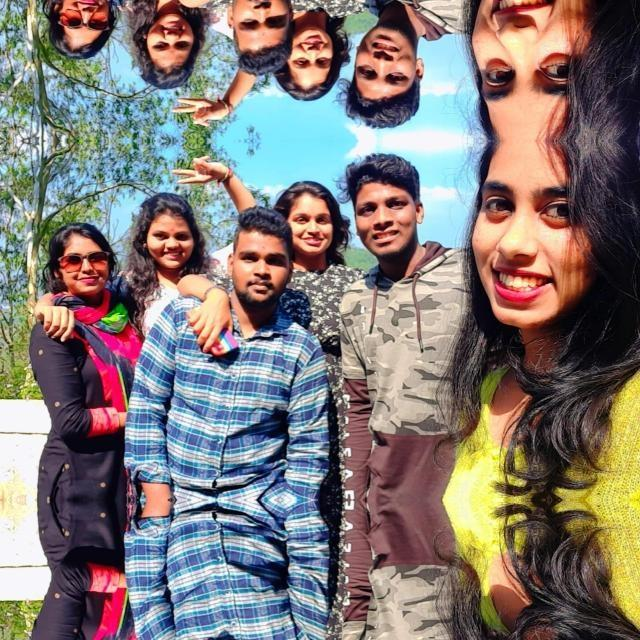person: (464, 142, 636, 500), (344, 154, 454, 396), (38, 222, 136, 478), (464, 499, 635, 640), (464, 0, 635, 137), (202, 215, 302, 442), (344, 0, 453, 125), (38, 521, 135, 640), (119, 186, 209, 314), (274, 176, 350, 294), (201, 556, 302, 640), (119, 0, 209, 94), (274, 0, 350, 104), (201, 0, 302, 64), (38, 0, 135, 57), (344, 603, 453, 640)
